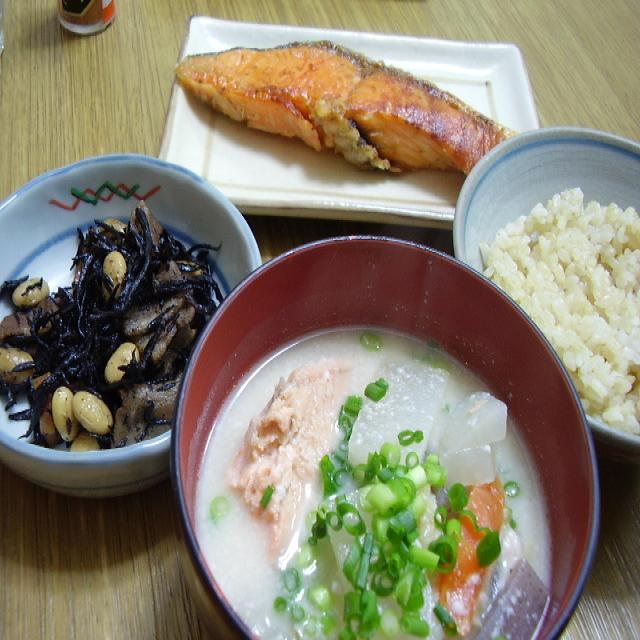熟制海鲜: (172, 6, 545, 198)
